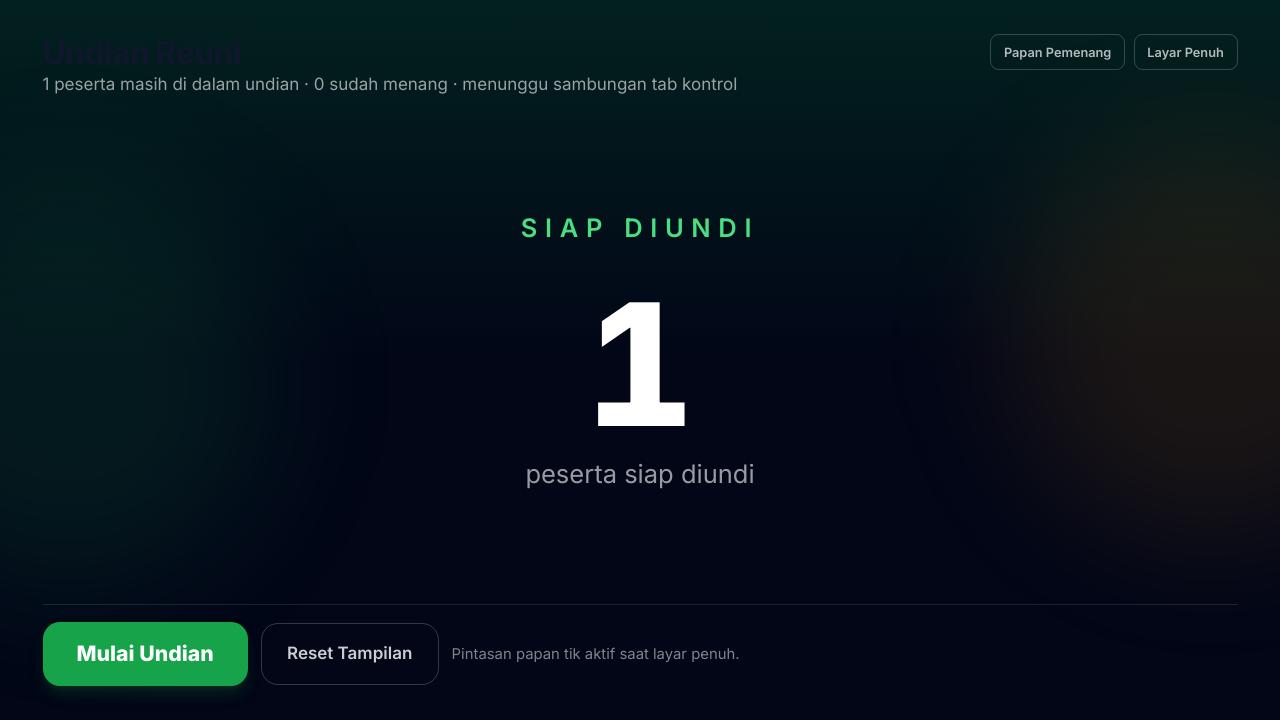
Test: LotteryPresentPage — meminta undian dari panggung › berhenti menunggu dan mengatakannya saat tab kontrol tidak menjawab
This screenshot has width=1280, height=720.
Click the button "Mulai Undian".
click(145, 654)  # box [42, 622, 248, 686]
Wait 3500 ms
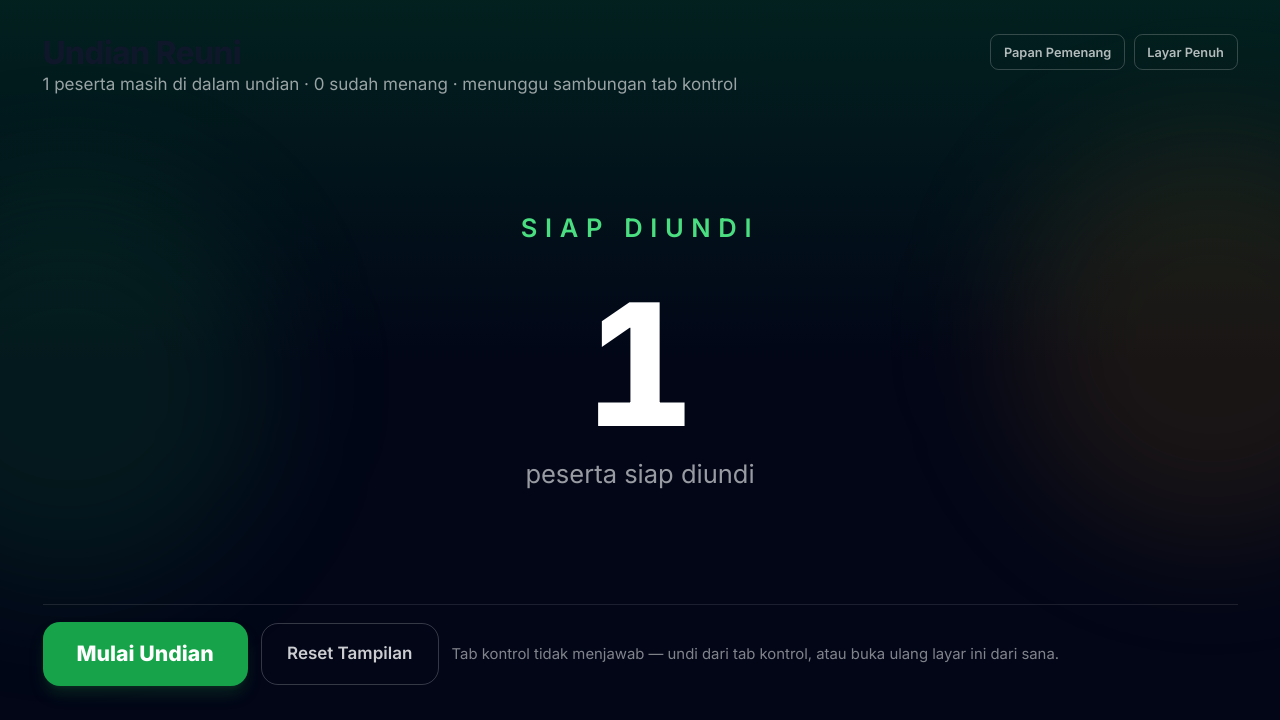
Expected: the text "Tab kontrol tidak menjawab" is shown, [452, 644, 1059, 662]
